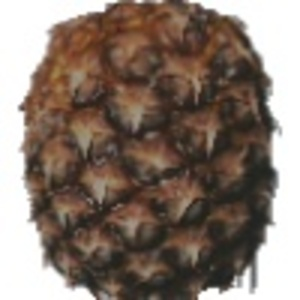abacaxi: (12, 5, 280, 297)
